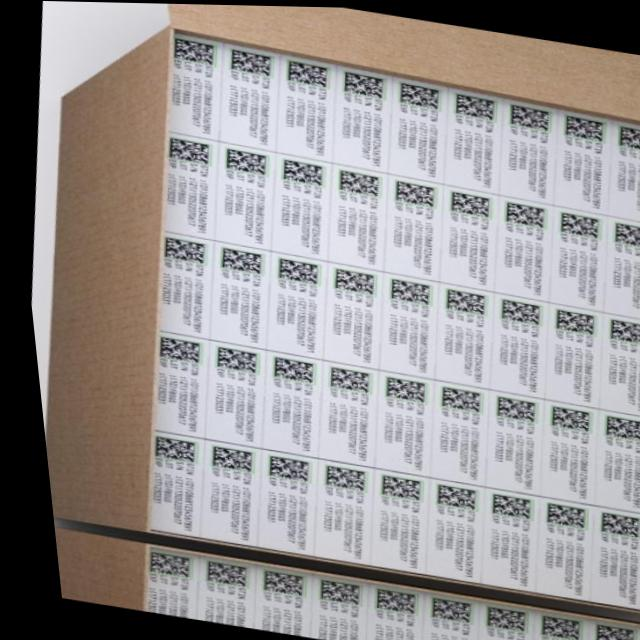datamatrix: (503, 102, 557, 135), (551, 208, 605, 241), (497, 198, 551, 231), (223, 47, 275, 80), (367, 471, 419, 504), (585, 508, 637, 541), (244, 567, 296, 600), (187, 558, 239, 591), (339, 68, 390, 101), (141, 434, 192, 467), (198, 444, 249, 477), (310, 462, 361, 495), (422, 480, 473, 513), (469, 603, 520, 636), (412, 592, 463, 625), (358, 585, 409, 618), (302, 576, 353, 609), (135, 549, 186, 582), (531, 499, 583, 531), (256, 453, 306, 486), (281, 59, 334, 90), (205, 345, 258, 376), (476, 489, 527, 521), (147, 336, 201, 366), (170, 37, 221, 68), (276, 158, 327, 189), (450, 91, 500, 122), (442, 187, 492, 218), (332, 169, 382, 200), (221, 147, 271, 178), (162, 137, 212, 168), (545, 305, 595, 336), (437, 286, 487, 317), (326, 266, 376, 297), (213, 245, 263, 276), (154, 235, 204, 266), (428, 384, 478, 415), (383, 276, 432, 307), (270, 256, 319, 287), (540, 402, 589, 433), (487, 393, 536, 424), (374, 374, 423, 405), (523, 611, 575, 640), (388, 180, 438, 210), (320, 365, 370, 395), (592, 411, 640, 442), (491, 296, 540, 326), (263, 355, 312, 385), (396, 81, 443, 110), (599, 316, 640, 346), (562, 116, 607, 143), (604, 217, 640, 250), (575, 620, 626, 640), (614, 124, 640, 151)
